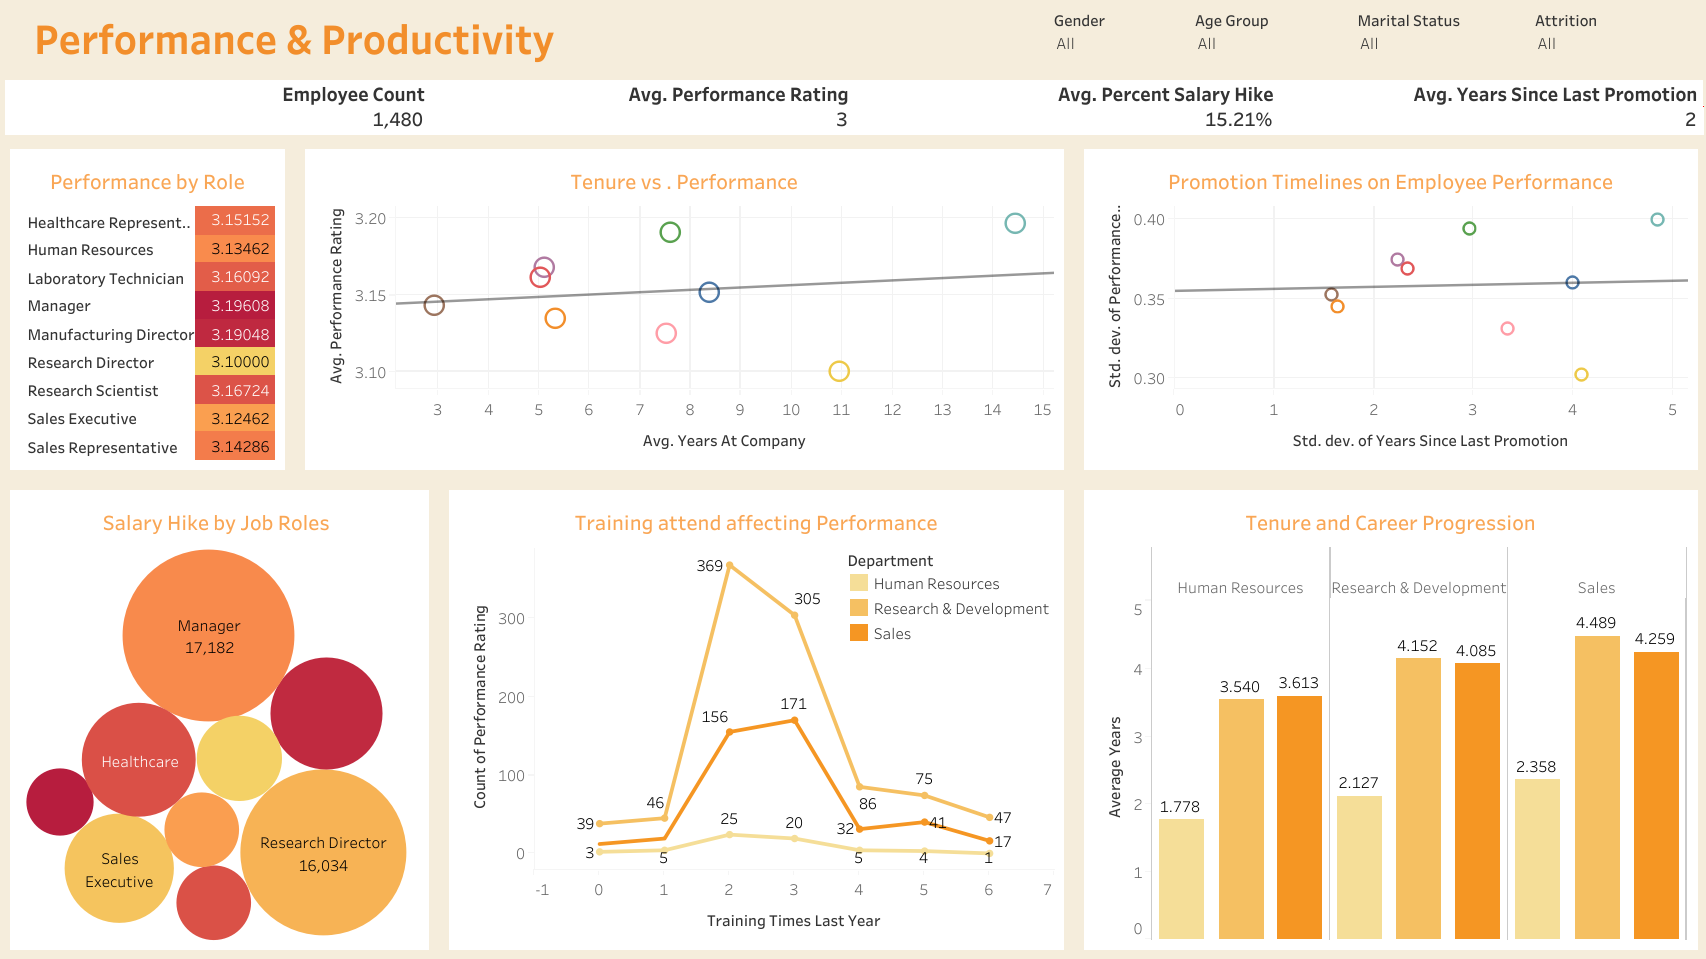

This screenshot's page, from the dashboard's own definition file:
{"tool":"tableau","page":{"name":"Performance & Productivity","canvas":[1366,768],"ordinal":1},"visuals":[{"type":"title","box":[0,0,1366,60]},{"type":"filter","title":"Performance by Role","param":"[federated.1sl3tj319xhvo51au7p841czmy36].[none:Gender:nk]","box":[842.8,5.8,106.5,53.8]},{"type":"filter","title":"Performance by Role","param":"[federated.1sl3tj319xhvo51au7p841czmy36].[none:AgeGroup:nk]","box":[956.2,5.8,122.9,53.8]},{"type":"filter","title":"Performance by Role","param":"[federated.1sl3tj319xhvo51au7p841czmy36].[none:MaritalStatus:nk]","box":[1086,5.8,136.6,53.8]},{"type":"filter","title":"Performance by Role","param":"[federated.1sl3tj319xhvo51au7p841czmy36].[none:Attrition:nk]","box":[1228,5.8,127,53.8]},{"type":"worksheet","title":"Performance KPI","mark":"Automatic","box":[0,60,1366,51.2]},{"type":"worksheet","title":"Performance by Role","mark":"Square","rows":["JobRole"],"box":[0,111.2,236,272.8]},{"type":"worksheet","title":"Tenure vs . Performance","mark":"Automatic","rows":["PerformanceRating"],"cols":["YearsAtCompany"],"box":[236,111.2,623,272.8]},{"type":"worksheet","title":"Promotion Timelines on Employee Performance","mark":"Automatic","rows":["PerformanceRating"],"cols":["YearsSinceLastPromotion"],"box":[859,111.2,507,272.8]},{"type":"worksheet","title":"Salary Hike by Job Roles","mark":"Circle","box":[0,384,351.1,384]},{"type":"worksheet","title":"Training attend affecting Performance","mark":"Automatic","rows":["PerformanceRating"],"cols":["TrainingTimesLastYear"],"box":[351.1,384,507.9,384]},{"type":"worksheet","title":"Tenure and Career Progression","mark":"Automatic","cols":["Department"],"box":[859,384,507,384]},{"type":"legend","title":"Training attend affecting Performance","param":"[federated.1sl3tj319xhvo51au7p841czmy36].[none:Department:nk]","box":[677,437,188,76]}]}

Visuals, with their boxes in screenshot pixels (x1, y1, x2, y2), scaled from the page's 1366x768 canvas onto the 1706x959 screenshot:
title: {"left": 0, "top": 0, "right": 1705, "bottom": 75}
"Performance by Role" filter: {"left": 1053, "top": 7, "right": 1186, "bottom": 74}
"Performance by Role" filter: {"left": 1194, "top": 7, "right": 1348, "bottom": 74}
"Performance by Role" filter: {"left": 1356, "top": 7, "right": 1527, "bottom": 74}
"Performance by Role" filter: {"left": 1534, "top": 7, "right": 1692, "bottom": 74}
"Performance KPI" worksheet: {"left": 0, "top": 75, "right": 1705, "bottom": 139}
"Performance by Role" worksheet (Square marks): {"left": 0, "top": 139, "right": 295, "bottom": 480}
"Tenure vs . Performance" worksheet: {"left": 295, "top": 139, "right": 1073, "bottom": 480}
"Promotion Timelines on Employee Performance" worksheet: {"left": 1073, "top": 139, "right": 1705, "bottom": 480}
"Salary Hike by Job Roles" worksheet (Circle marks): {"left": 0, "top": 480, "right": 438, "bottom": 958}
"Training attend affecting Performance" worksheet: {"left": 438, "top": 480, "right": 1073, "bottom": 958}
"Tenure and Career Progression" worksheet: {"left": 1073, "top": 480, "right": 1705, "bottom": 958}
"Training attend affecting Performance" legend: {"left": 846, "top": 546, "right": 1080, "bottom": 641}
